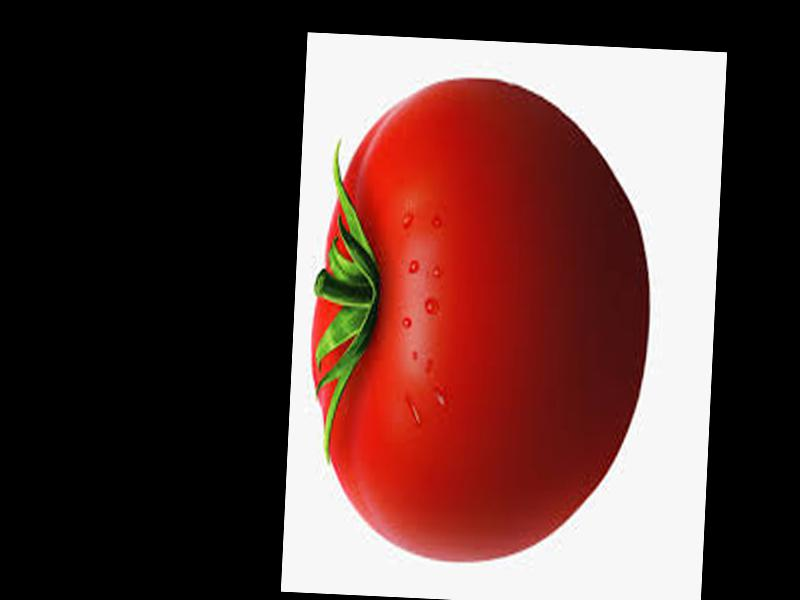Tomato: (304, 71, 661, 512)
